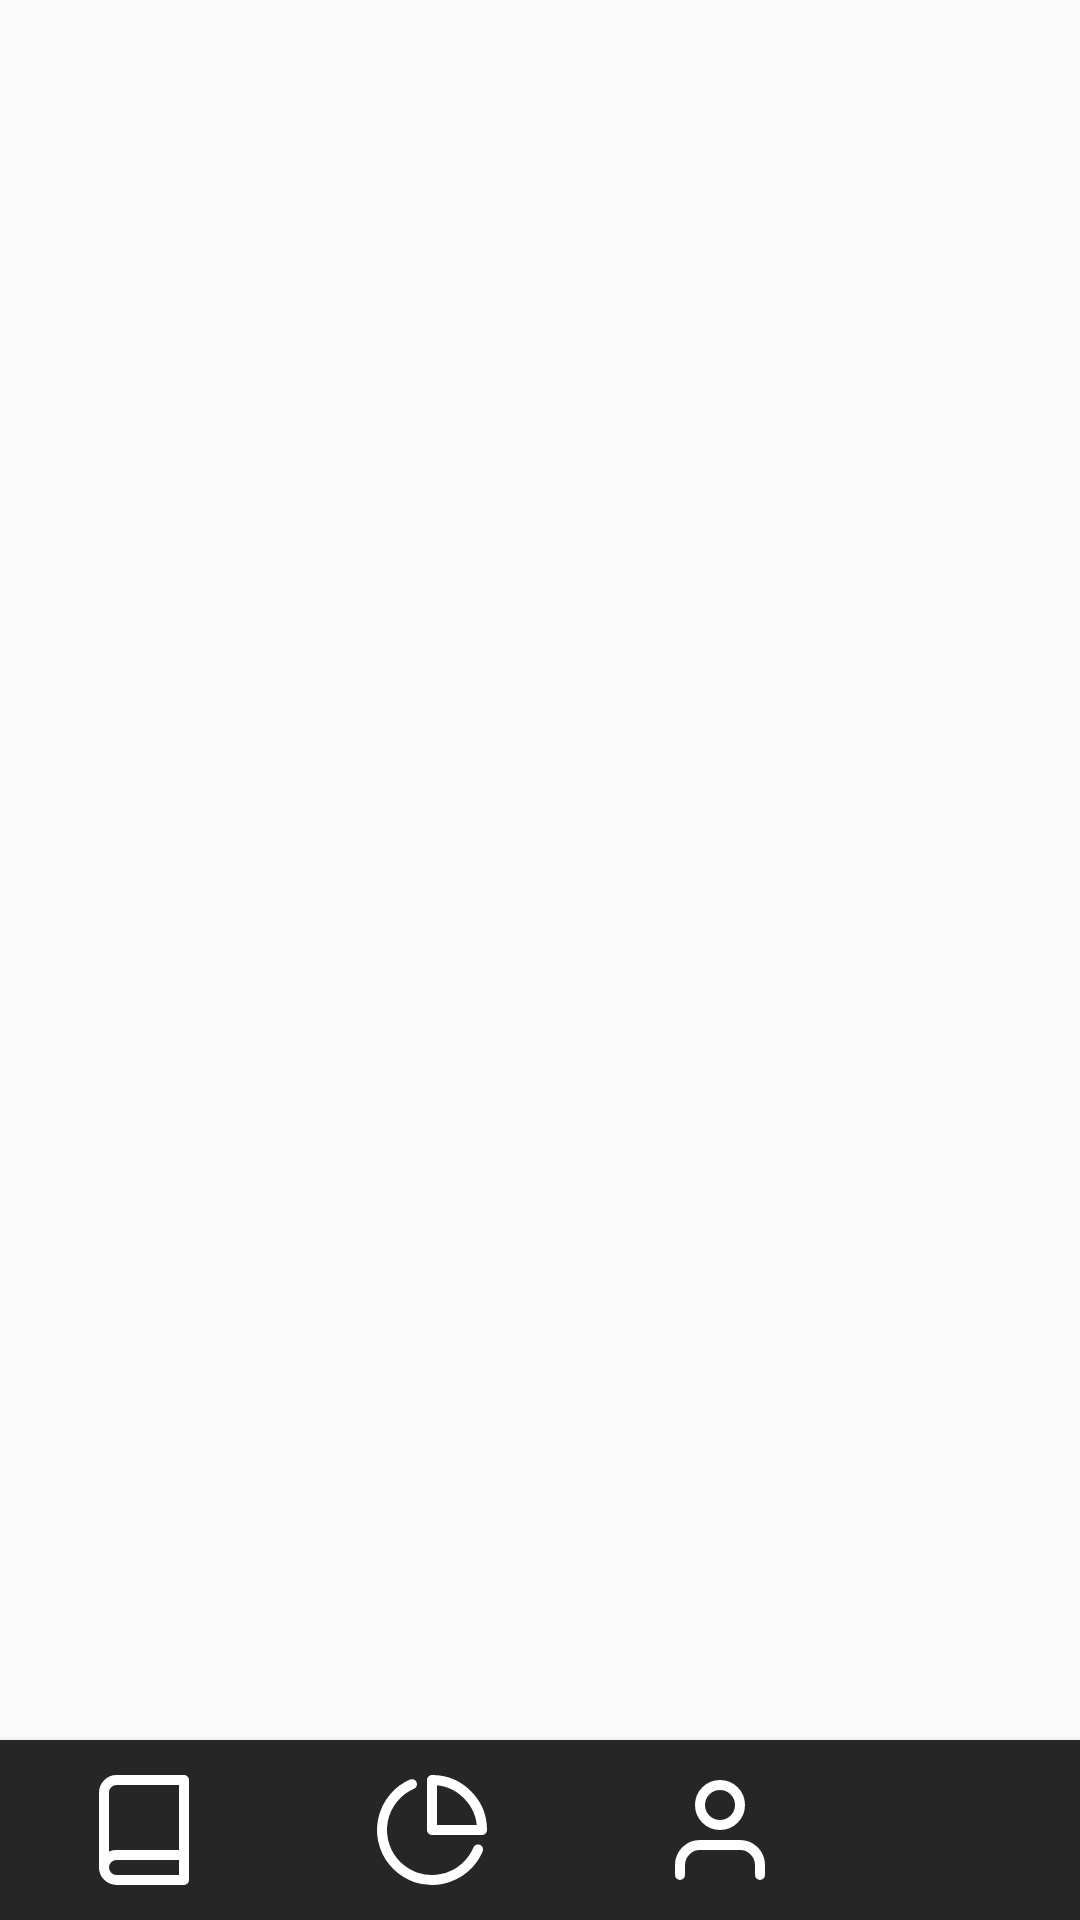

Point at icon controls on the screen. Image size 1080×1920, points as [x,y].
book: [144,1830]
pie chart: [432,1830]
userinfo: [720,1830]
